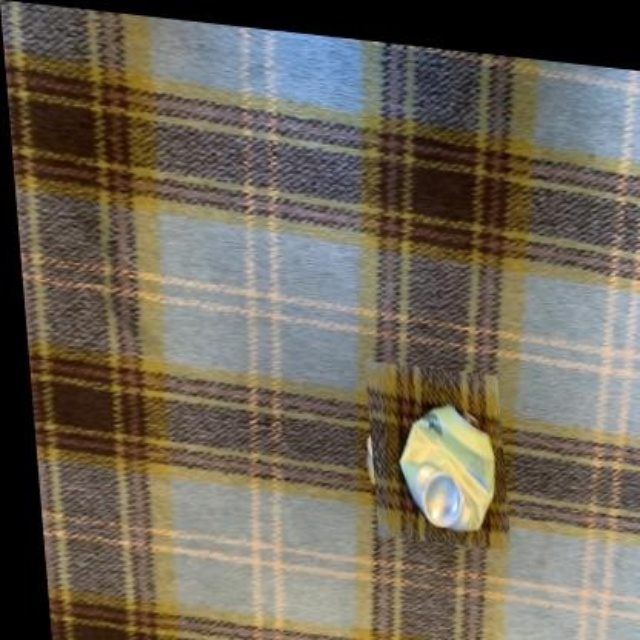trash: (400, 405, 494, 529)
